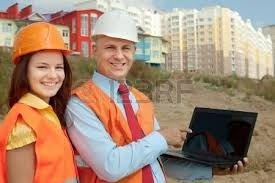helmet: (8, 20, 75, 61), (88, 6, 142, 46)
person with full safety: (65, 7, 194, 183), (1, 21, 83, 182)
safety vest: (72, 78, 161, 180), (4, 103, 78, 182)
